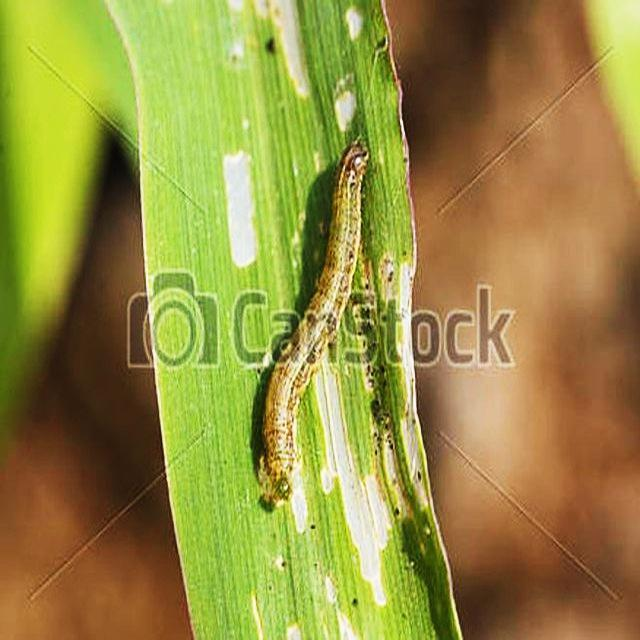gusano_cogollero: (254, 138, 376, 510)
